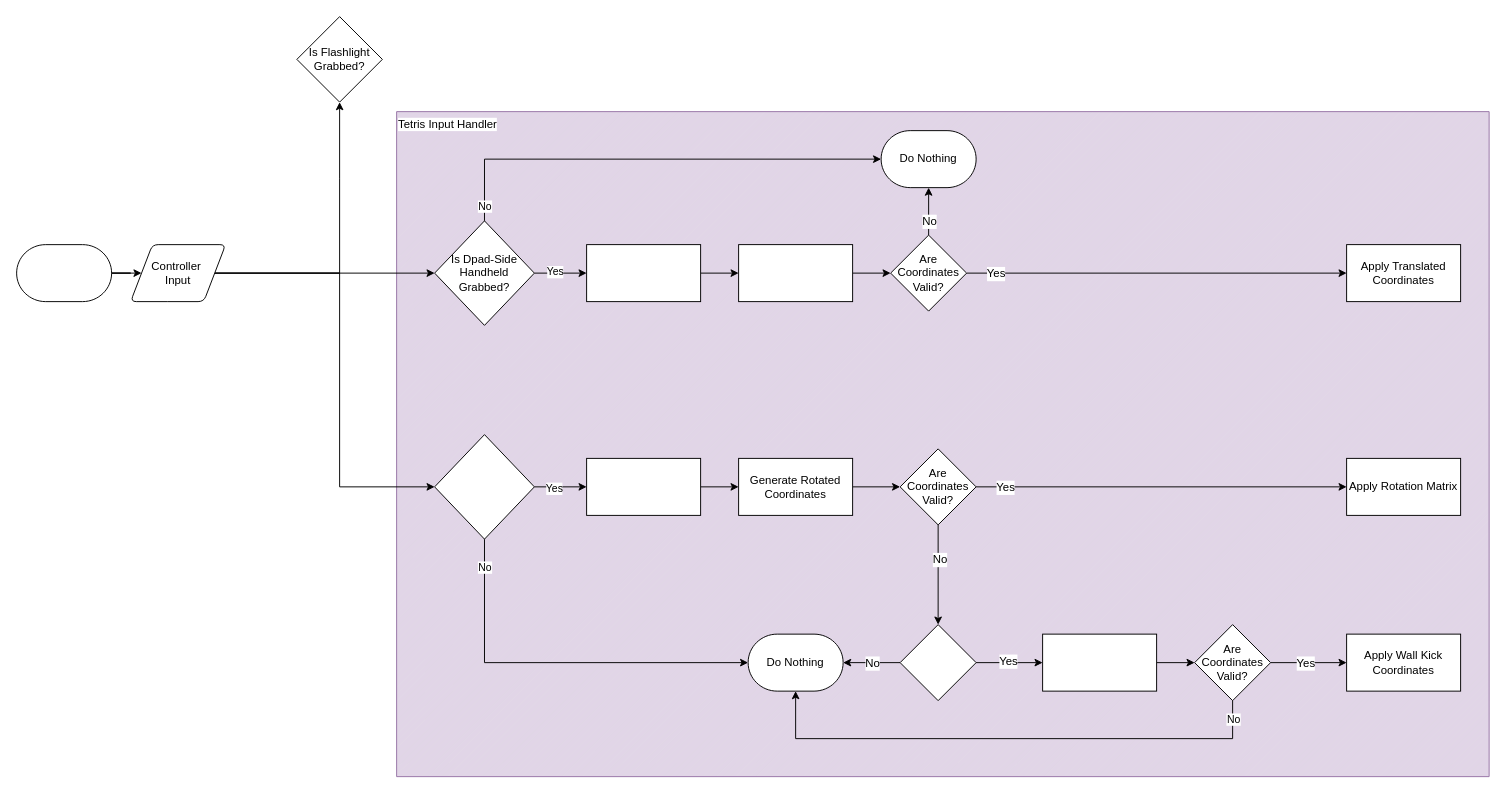
Some shapes in this 1506 by 793 pixel diagram are drawn without their labels. The box of each missing label's shape, as (x1, y1, x2, y2) in pixels:
Gameplay Starts: (16, 244, 112, 302)
Generate Translated Coordinates: (738, 244, 853, 302)
Generate Wall Kick Coordinates: (1042, 633, 1157, 691)
Invoke Move Horizontal: (586, 244, 701, 302)
Invoke Rotate: (586, 457, 701, 515)
Is Button-Side Handheld Grabbed?: (434, 434, 534, 539)
Is Wall Kick?: (899, 624, 976, 701)
